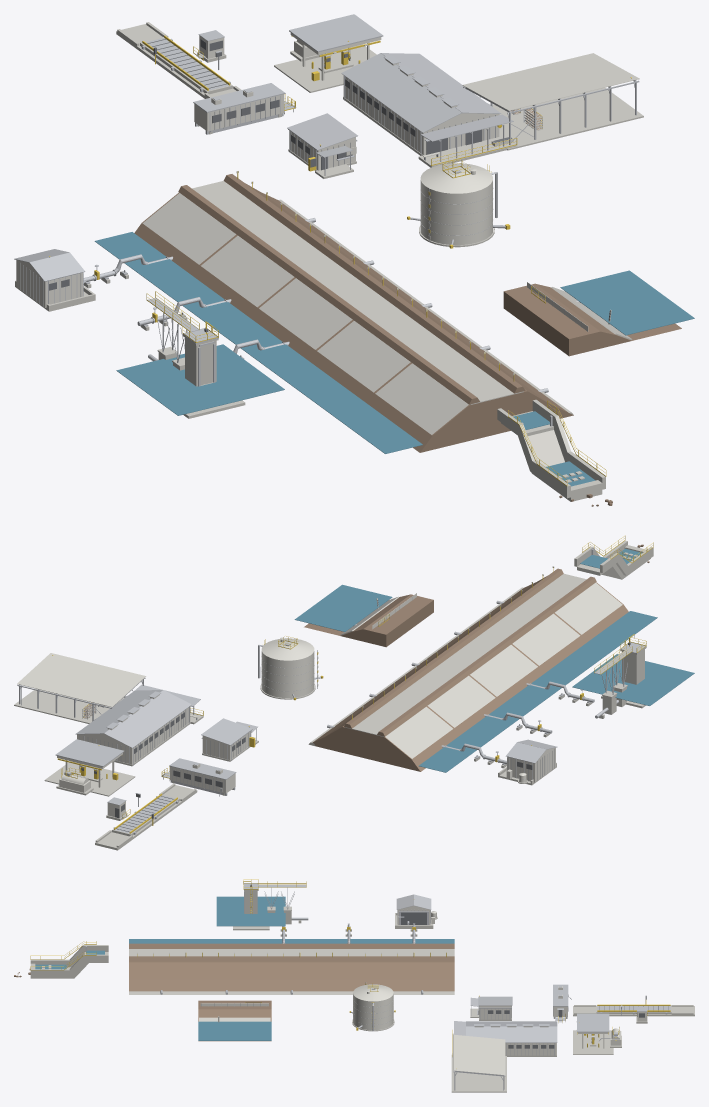
The model's file is ore-processing-and-haulage-plant-tailings-and-site-ser-8dc1287d.glb.
3 renders of one model, top to bottom at view 1: azimuth 30°, elevation 25°; view 2: azimuth 150°, elevation 25°; view 3: azimuth 270°, elevation 25°, orthographic. The views are drawn at different scales.
Parts seen in each view (by area): view 1: 013-change-house/2, 004-tailings-berm-module/0, 011-process-water-tank/0, 004-tailings-berm-module/1, 005-decant-tower/5, 001-tailings-berm-module/1, 003-tailings-berm-module/1, 000-tailings-berm-module/1, 002-tailings-berm-module/1, 015-core-shed/2, 012-settling-pond-edge/0, 012-settling-pond-edge/2 (+29 smaller); view 2: 013-change-house/2, 000-tailings-berm-module/0, 015-core-shed/2, 011-process-water-tank/0, 000-tailings-berm-module/1, 001-tailings-berm-module/1, 003-tailings-berm-module/1, 004-tailings-berm-module/1, 002-tailings-berm-module/1, 005-decant-tower/5, 012-settling-pond-edge/0, 012-settling-pond-edge/2 (+25 smaller); view 3: 002-tailings-berm-module/0, 003-tailings-berm-module/0, 004-tailings-berm-module/0, 000-tailings-berm-module/0, 001-tailings-berm-module/0, 013-change-house/2, 015-core-shed/2, 005-decant-tower/5, 011-process-water-tank/0, 012-settling-pond-edge/2, 006-spillway-chute/0, 012-settling-pond-edge/0 (+18 smaller).
Boxes of the visible parts, bbox=[...] form: 013-change-house/2: bbox=[341, 53, 513, 161]; 004-tailings-berm-module/0: bbox=[367, 344, 573, 452]; 011-process-water-tank/0: bbox=[420, 163, 492, 245]; 004-tailings-berm-module/1: bbox=[375, 351, 573, 434]; 005-decant-tower/5: bbox=[116, 344, 284, 415]; 001-tailings-berm-module/1: bbox=[201, 223, 396, 307]; 003-tailings-berm-module/1: bbox=[317, 308, 513, 392]; 000-tailings-berm-module/1: bbox=[142, 181, 338, 264]; 002-tailings-berm-module/1: bbox=[259, 266, 454, 349]; 015-core-shed/2: bbox=[462, 53, 639, 110]; 012-settling-pond-edge/0: bbox=[503, 283, 681, 356]; 012-settling-pond-edge/2: bbox=[560, 270, 694, 335]; 013-change-house/2: bbox=[75, 684, 200, 765]; 000-tailings-berm-module/0: bbox=[312, 692, 459, 771]; 015-core-shed/2: bbox=[17, 653, 145, 707]; 011-process-water-tank/0: bbox=[261, 637, 318, 697]; 000-tailings-berm-module/1: bbox=[308, 698, 452, 758]; 001-tailings-berm-module/1: bbox=[353, 667, 495, 727]; 003-tailings-berm-module/1: bbox=[438, 604, 580, 665]; 004-tailings-berm-module/1: bbox=[480, 573, 622, 634]; 002-tailings-berm-module/1: bbox=[395, 635, 537, 696]; 005-decant-tower/5: bbox=[572, 654, 694, 705]; 012-settling-pond-edge/0: bbox=[304, 594, 433, 647]; 012-settling-pond-edge/2: bbox=[294, 584, 392, 631]; 002-tailings-berm-module/0: bbox=[259, 943, 324, 991]; 003-tailings-berm-module/0: bbox=[194, 943, 259, 991]; 004-tailings-berm-module/0: bbox=[129, 943, 194, 991]; 000-tailings-berm-module/0: bbox=[389, 943, 454, 991]; 001-tailings-berm-module/0: bbox=[324, 943, 389, 991]; 013-change-house/2: bbox=[454, 1021, 557, 1056]; 015-core-shed/2: bbox=[453, 1034, 505, 1075]; 005-decant-tower/5: bbox=[216, 896, 285, 926]; 011-process-water-tank/0: bbox=[353, 984, 393, 1030]; 012-settling-pond-edge/2: bbox=[198, 1021, 271, 1040]; 006-spillway-chute/0: bbox=[30, 945, 108, 978]; 012-settling-pond-edge/0: bbox=[198, 1000, 271, 1041].
Bounding box in the file's own units: 107 × 11.67 × 167.
